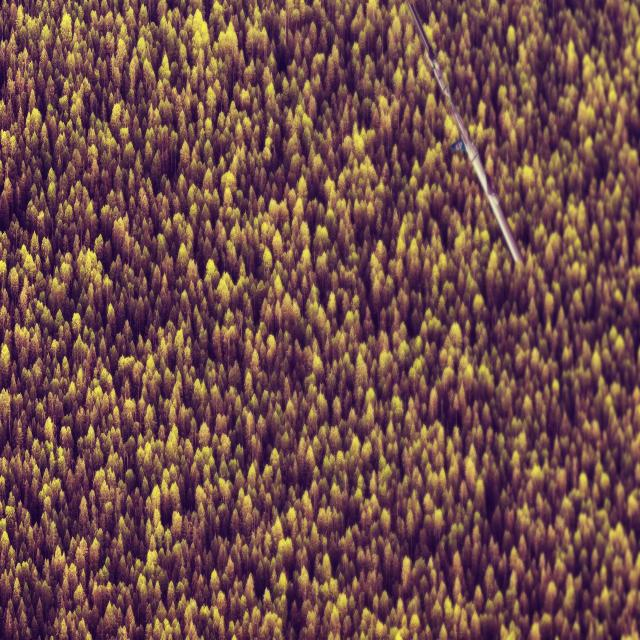airplane: (406, 1, 524, 266)
